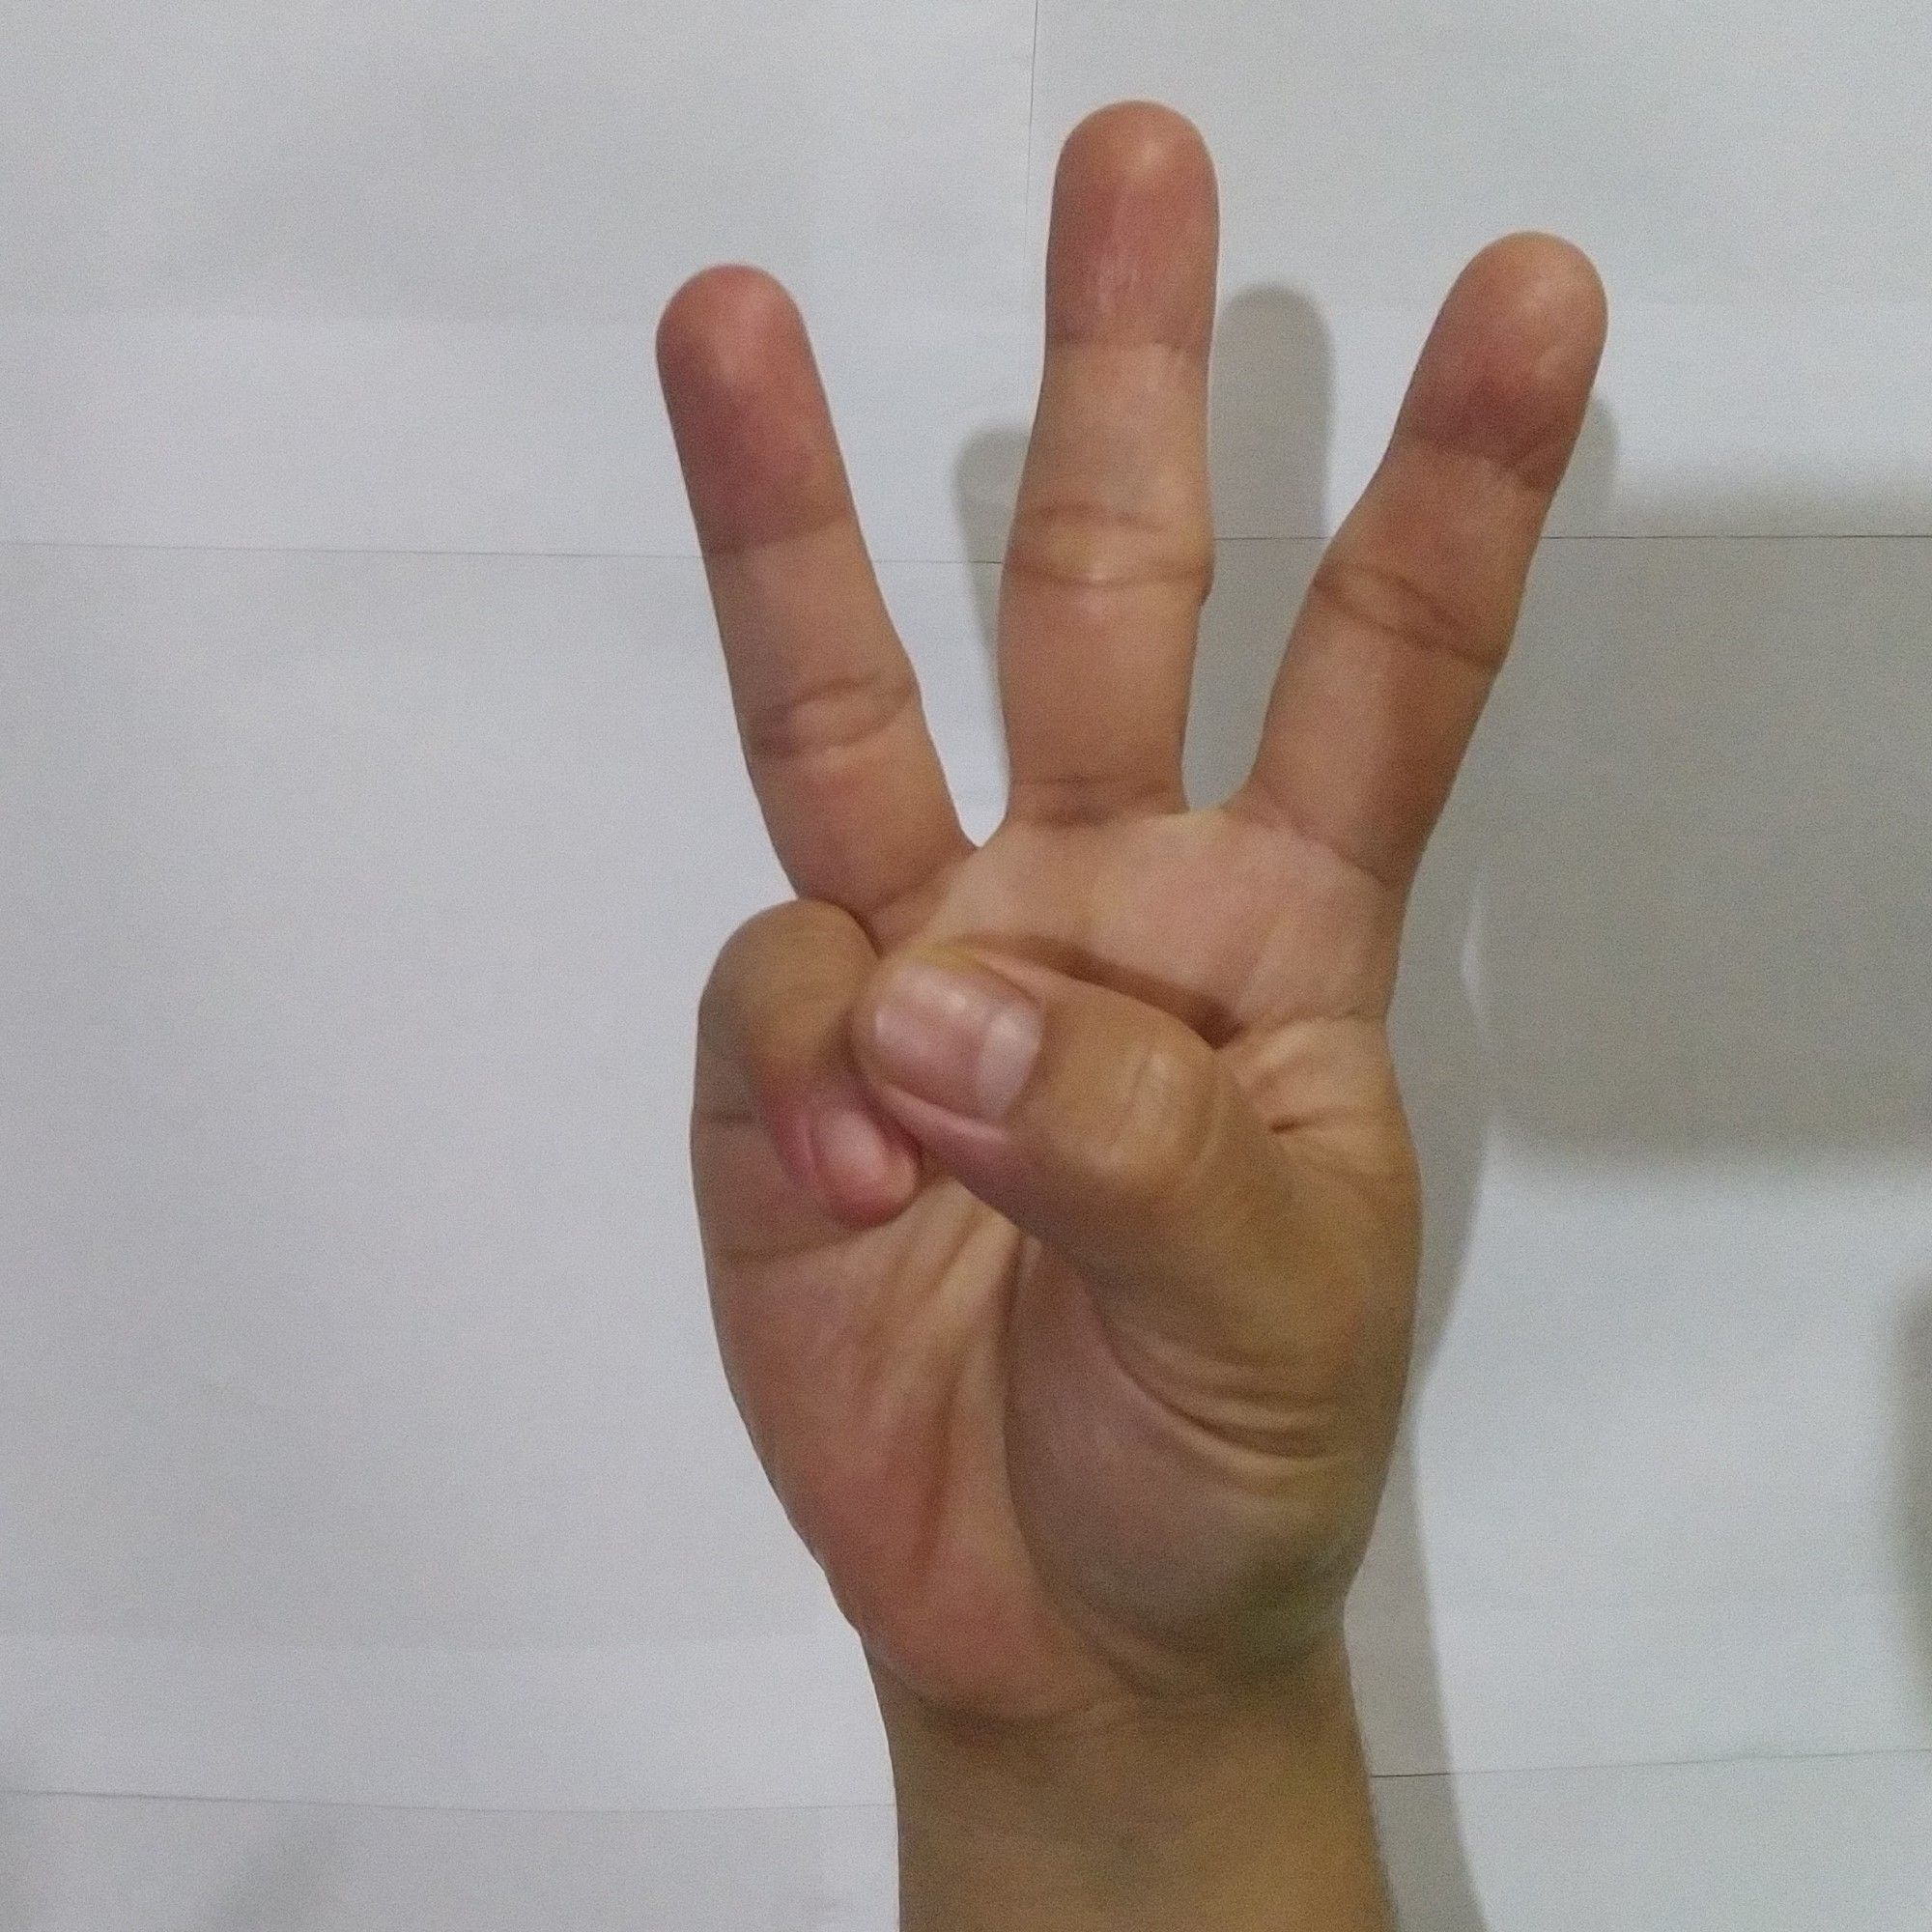W: (619, 78, 1640, 1709)
